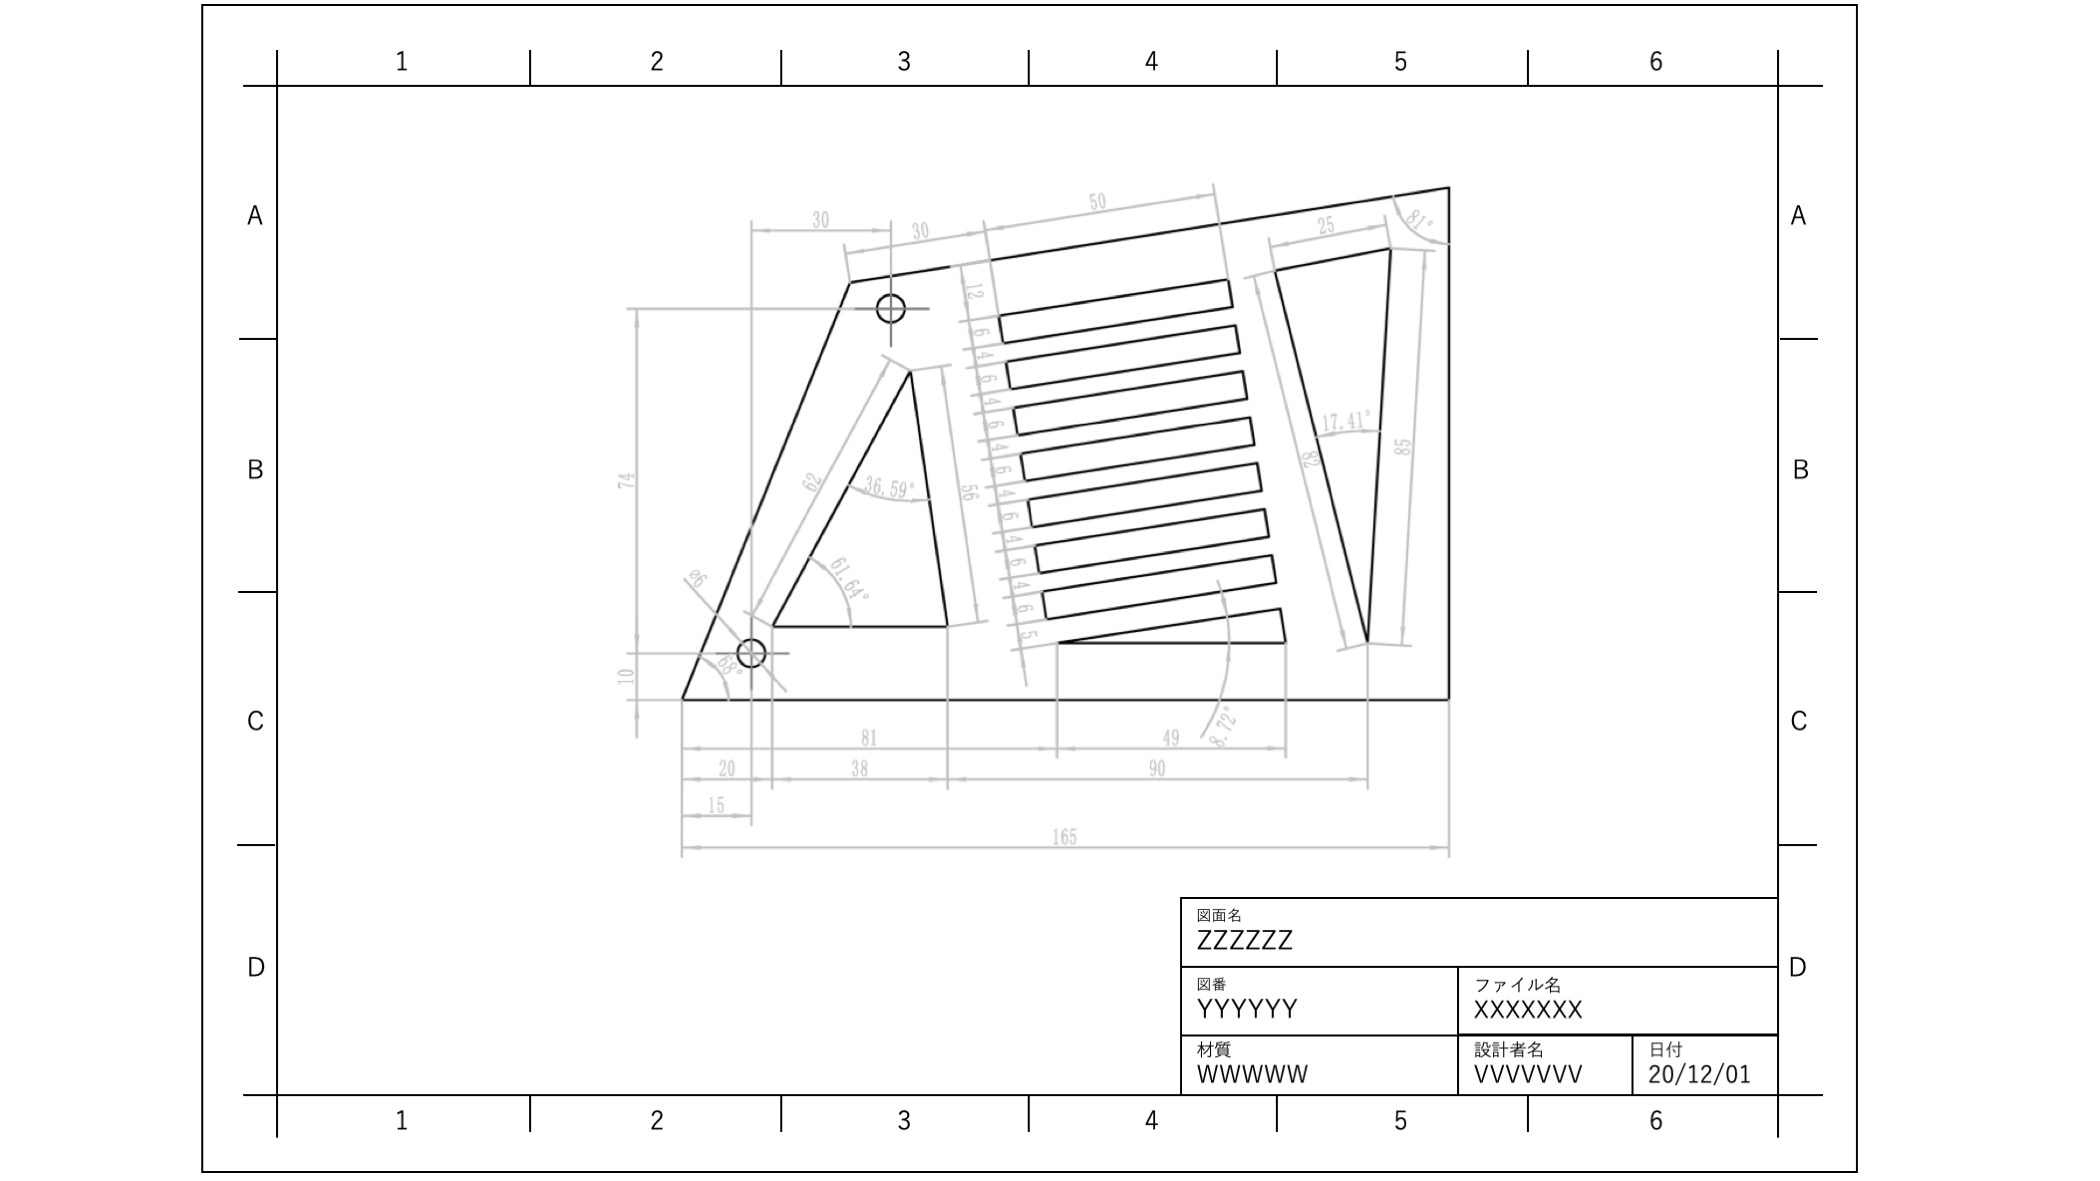circle: (873, 283, 906, 324), (733, 634, 767, 671)
rectangle: (998, 314, 1243, 388), (1030, 499, 1272, 572), (1023, 456, 1263, 529), (1038, 547, 1278, 620), (997, 270, 1235, 343), (1017, 411, 1258, 482), (1005, 368, 1250, 430)
triangle: (767, 358, 950, 630), (1274, 247, 1398, 645), (1053, 601, 1289, 650)
